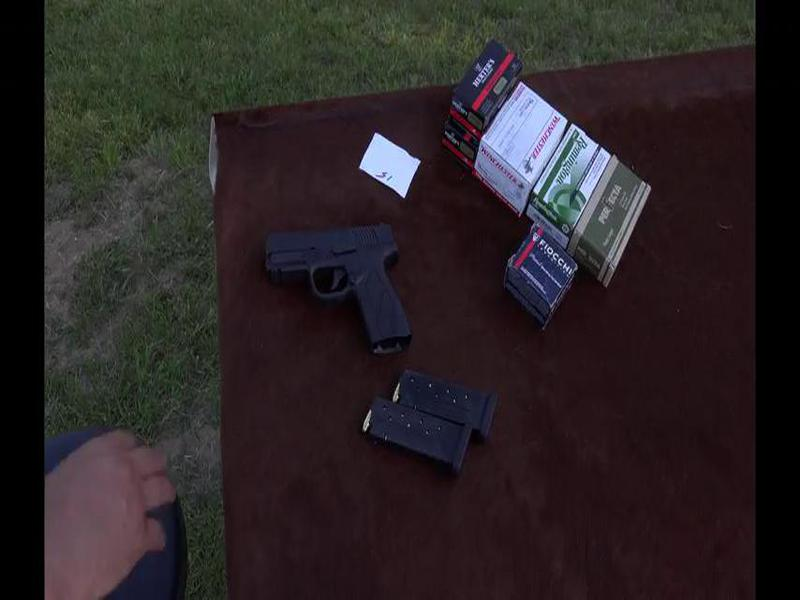Pistola: (256, 214, 423, 355)
